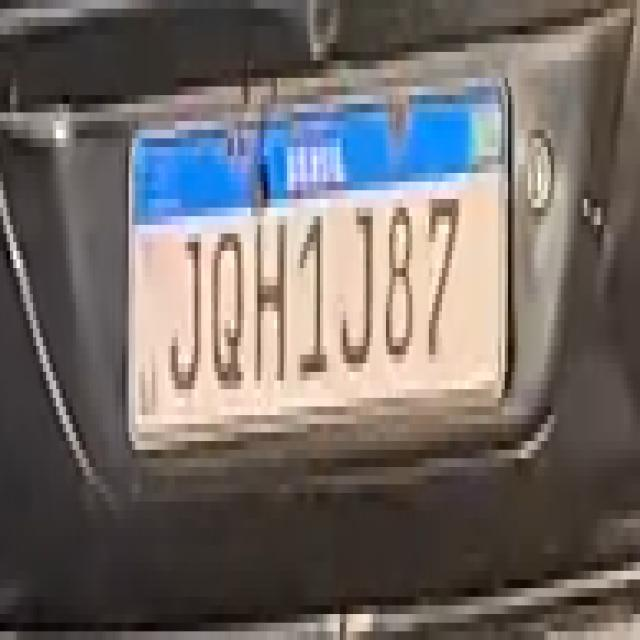Placa_mercosul_carro: (129, 72, 505, 443)
